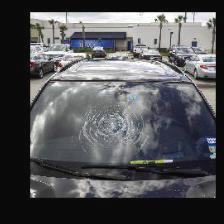glass_shatter: (63, 97, 164, 149)
